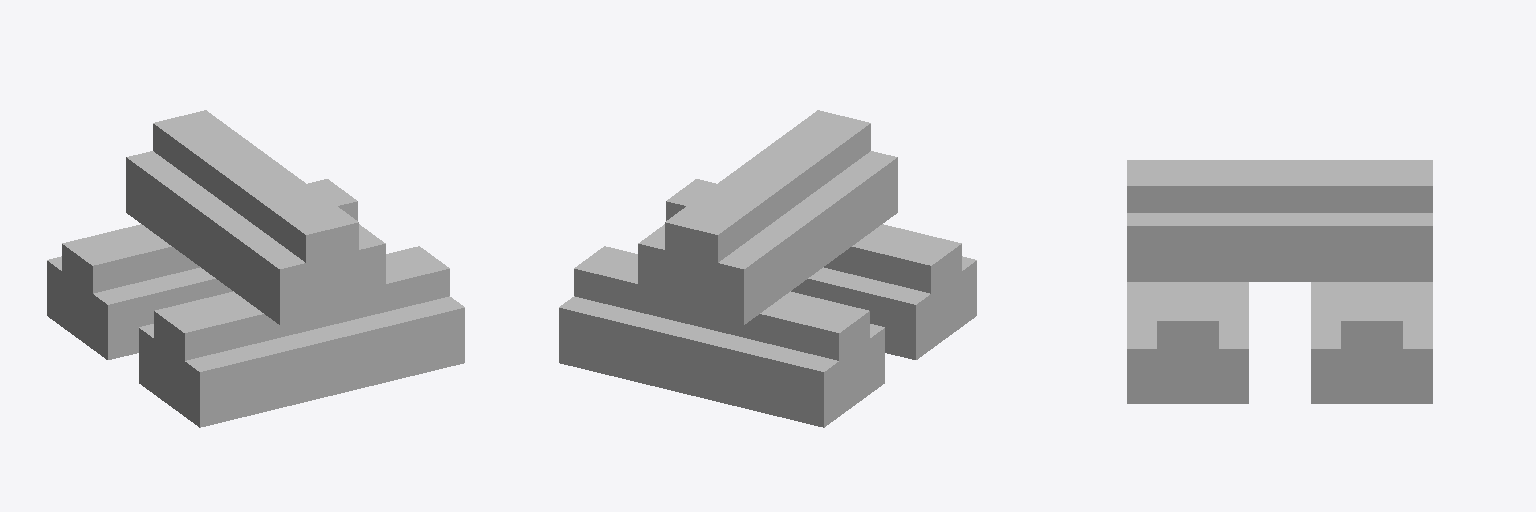
File: Menu Scene 03-32.obj
3 renders of one model, left to right at view 1: azimuth 30°, elevation 25°; view 2: azimuth 150°, elevation 25°; view 3: azimuth 270°, elevation 25°, orthographic.
Parts seen in each view (by area): view 1: Menu Scene 03-32; view 2: Menu Scene 03-32; view 3: Menu Scene 03-32.
Boxes of the visible parts, x1=… form: Menu Scene 03-32: x1=47, y1=110, x2=464, y2=427; Menu Scene 03-32: x1=559, y1=110, x2=976, y2=427; Menu Scene 03-32: x1=1127, y1=160, x2=1432, y2=403.
Bounding box in the file's own units: 10 × 6 × 10.